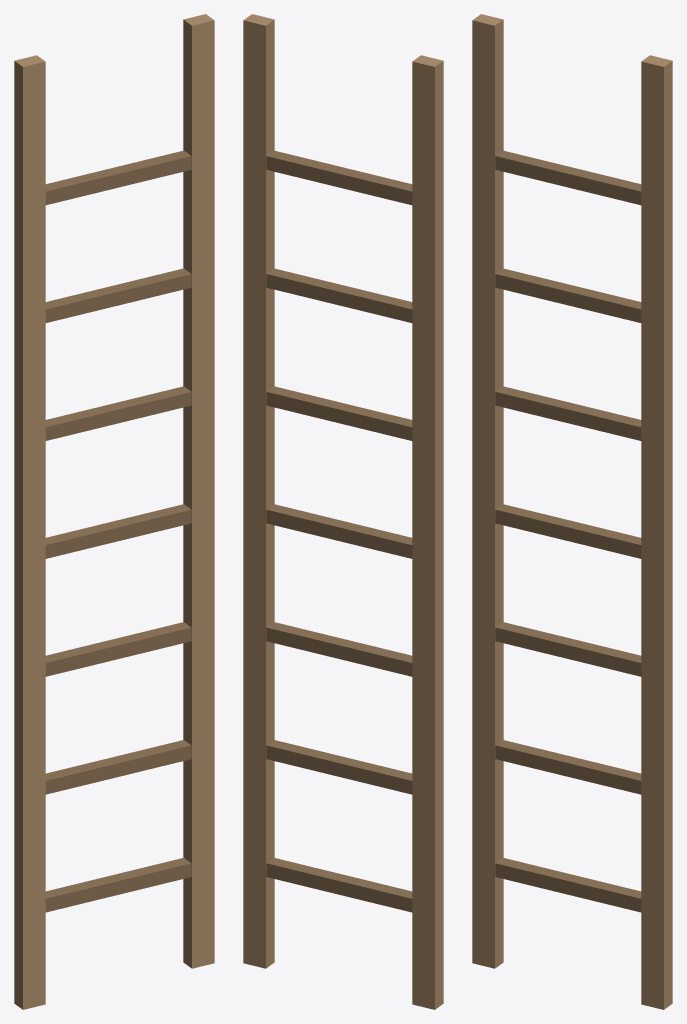
Rendered from prop-ladder-wood-lean.fbx.
3 renders of one model, left to right at view 1: azimuth 30°, elevation 25°; view 2: azimuth 150°, elevation 25°; view 3: azimuth 330°, elevation 25°, orthographic.
Parts seen in each view (by area): view 1: prop-ladder-wood-lean; view 2: prop-ladder-wood-lean; view 3: prop-ladder-wood-lean.
Boxes of the visible parts, <box> form: prop-ladder-wood-lean: <box>14,14,214,1009</box>; prop-ladder-wood-lean: <box>243,14,443,1009</box>; prop-ladder-wood-lean: <box>472,14,672,1009</box>.
Bounding box in the file's own units: 51 × 240 × 4.
